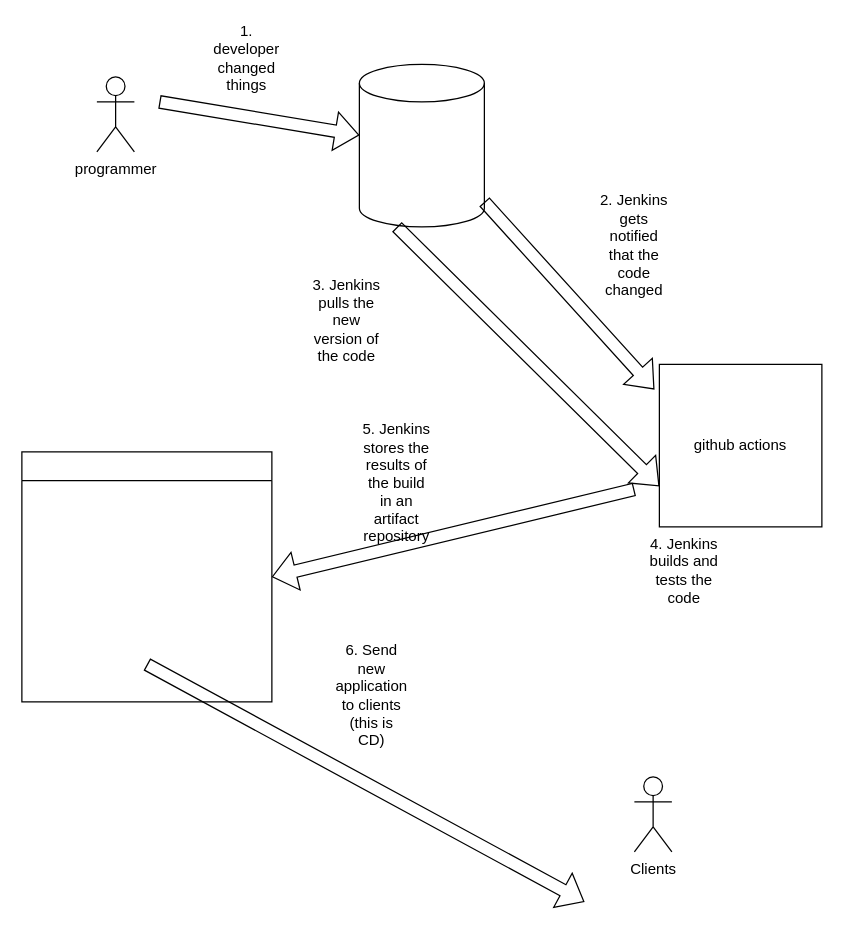
This 844x929 diagram has some shape labels left out. The shapes that lost their labels are listed below. From the top down, each one's box as (x1, y1, x2, y2) in pixels, then its label:
(358, 63, 484, 227): git repository
(21, 451, 272, 702): Artifact repository
